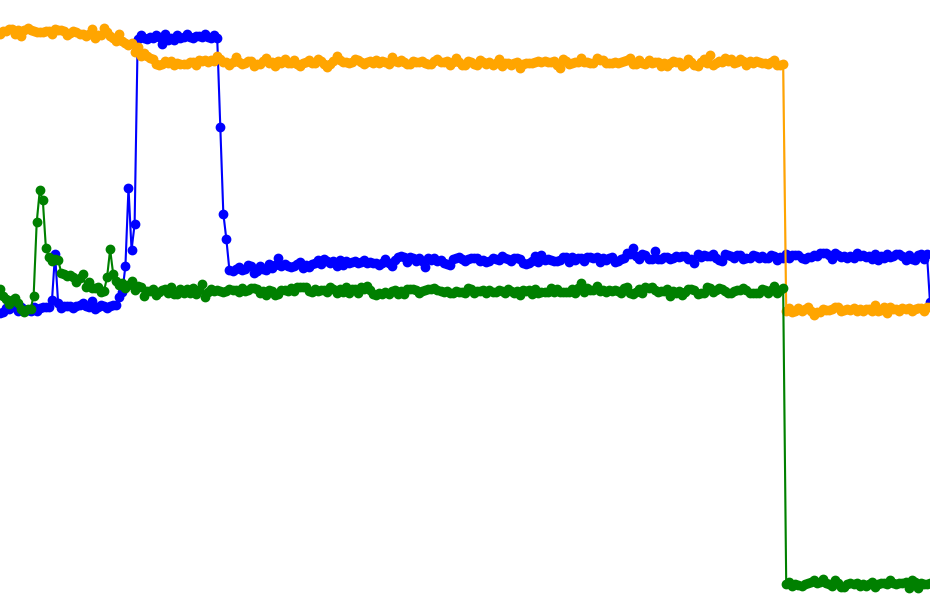CO2 Problem: (220, 0, 513, 616), (513, 0, 734, 616), (734, 0, 930, 616)
Condensation (CO2): (146, 0, 220, 616)
Normal: (0, 0, 734, 616), (0, 0, 513, 616), (220, 0, 513, 616), (513, 0, 734, 616), (734, 0, 930, 616), (0, 0, 146, 616)
O2 Problem: (220, 0, 513, 616), (513, 0, 734, 616), (734, 0, 930, 616), (146, 0, 220, 616)
